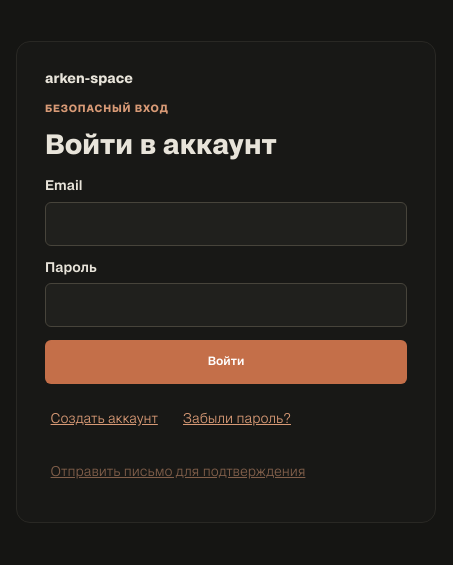
Scenario: AccountAuthWorkspace › registers without creating a session or storing the password
Click the button "Создать аккаунт" at (104, 420), box [45,398,163,442]
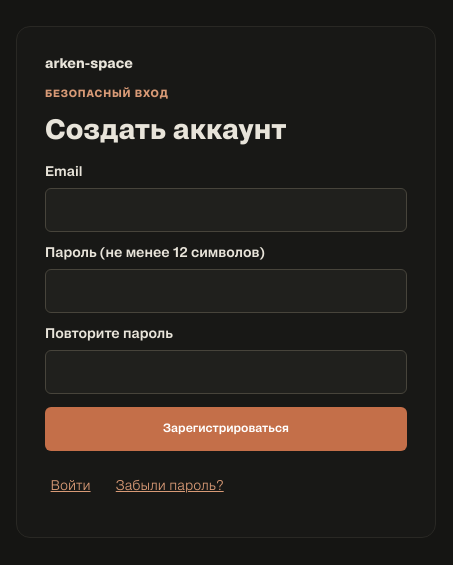
Type "person@example.test" into the field labelled "Email" at (226, 210), box [54,188,398,232]
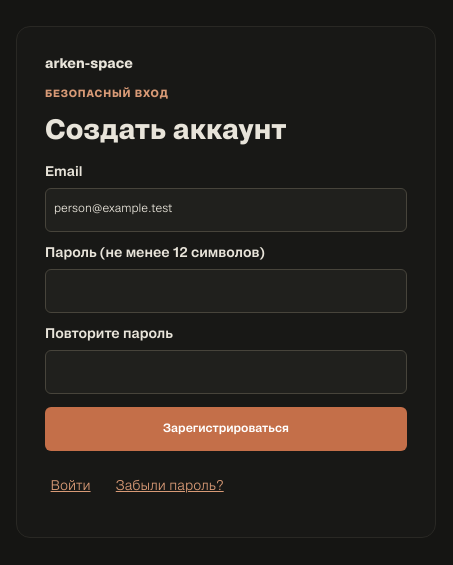
Type "a secure pass phrase" into the password field labelled "Пароль (не менее 12 символов)" at (226, 291), box [54,269,398,313]
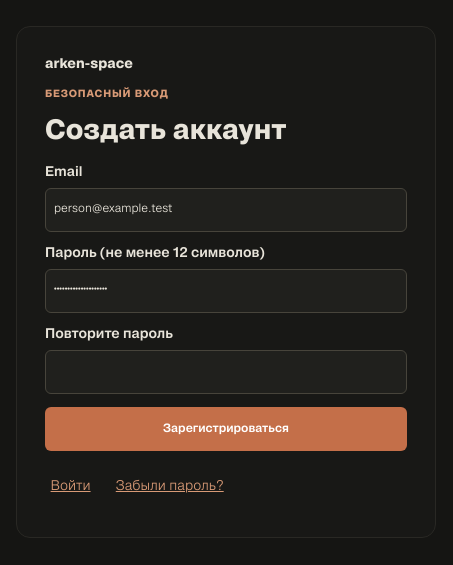
Type "a secure pass phrase" into the password field labelled "Повторите пароль" at (226, 372), box [54,350,398,394]
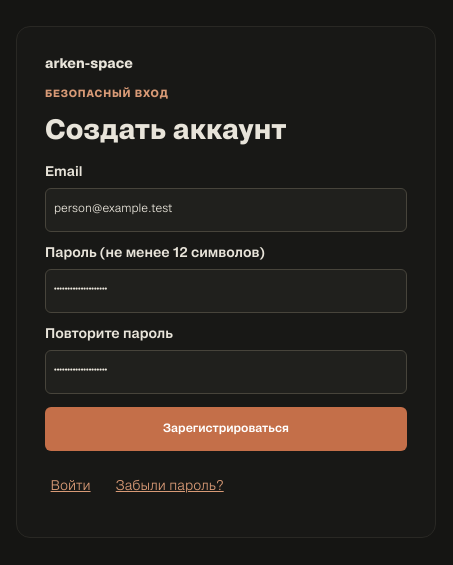
Click the button "Зарегистрироваться" at (226, 429), box [45,407,407,451]
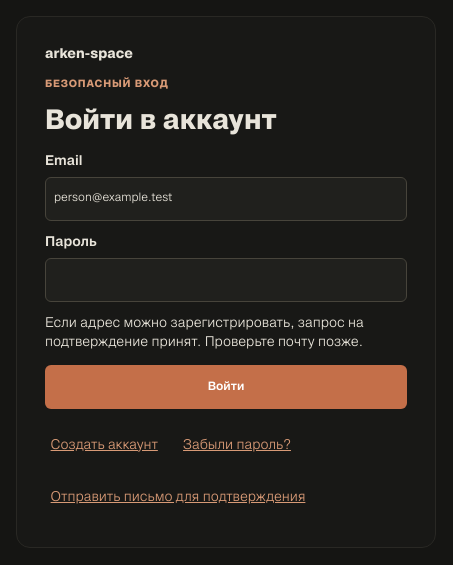
Check: the text "Если адрес можно зарегистрировать, запрос на подтверждение принят. Проверьте почту позже." is shown, box [45,318,364,350]
